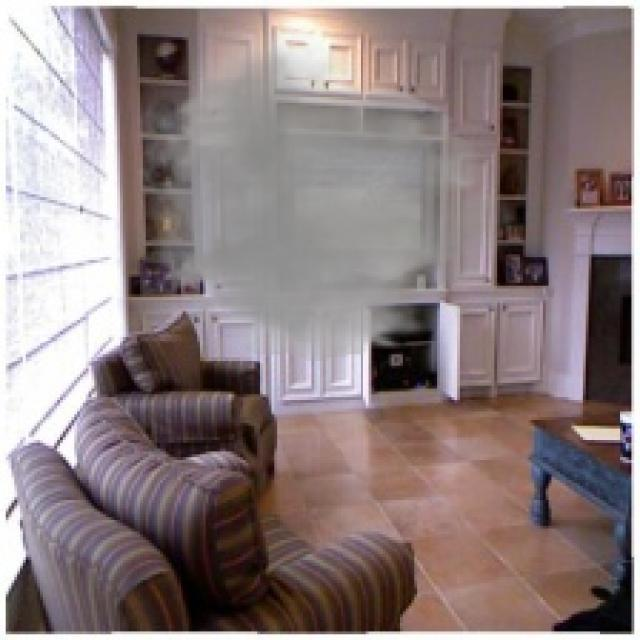Smoke: (120, 20, 529, 369)
